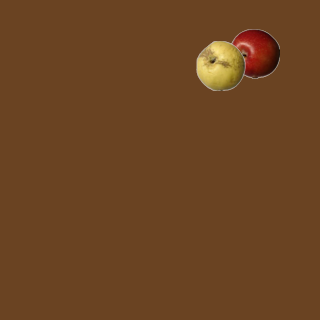Apple Braeburn: (229, 28, 279, 78)
Apple Golden 1: (195, 40, 245, 90)
